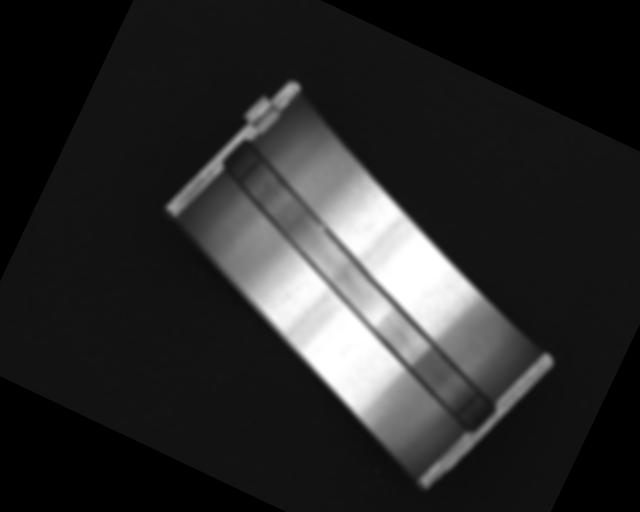gap: (163, 135, 555, 437)
nick: (271, 277, 302, 315)
